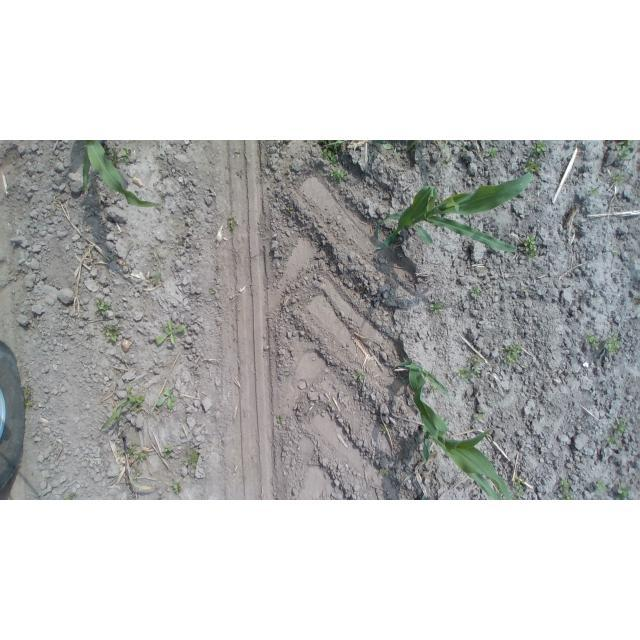Maize: (369, 169, 534, 255), (418, 415, 513, 500), (387, 357, 453, 444), (79, 141, 161, 211), (101, 382, 137, 431)
Weeds: (155, 318, 187, 346), (586, 332, 621, 354), (320, 140, 344, 165), (104, 144, 134, 164), (156, 387, 178, 410), (125, 445, 149, 464), (503, 343, 524, 364), (523, 234, 540, 258), (94, 297, 112, 317), (616, 140, 634, 160), (468, 353, 483, 375), (103, 324, 121, 342), (183, 450, 199, 469), (522, 159, 542, 174), (532, 140, 549, 157), (329, 168, 348, 183), (616, 483, 632, 500), (23, 385, 34, 408), (614, 418, 627, 436), (429, 300, 444, 315), (456, 366, 471, 381), (515, 476, 526, 496), (149, 272, 163, 287), (227, 214, 239, 231), (611, 171, 625, 185), (161, 444, 175, 458), (354, 369, 367, 384), (374, 141, 394, 150), (133, 396, 144, 412), (470, 286, 483, 299), (560, 477, 571, 492), (405, 141, 421, 151), (485, 147, 498, 159), (596, 481, 609, 492), (171, 482, 182, 494), (474, 408, 484, 421), (276, 413, 285, 427), (429, 381, 440, 392), (434, 140, 449, 148), (558, 493, 575, 500), (588, 187, 598, 198), (460, 145, 469, 157), (607, 435, 617, 445), (379, 468, 390, 477), (380, 425, 388, 436), (440, 158, 449, 166), (209, 287, 217, 295), (135, 469, 142, 478), (64, 495, 76, 500), (285, 371, 292, 378), (284, 206, 292, 212), (395, 153, 401, 160), (450, 155, 456, 161)
